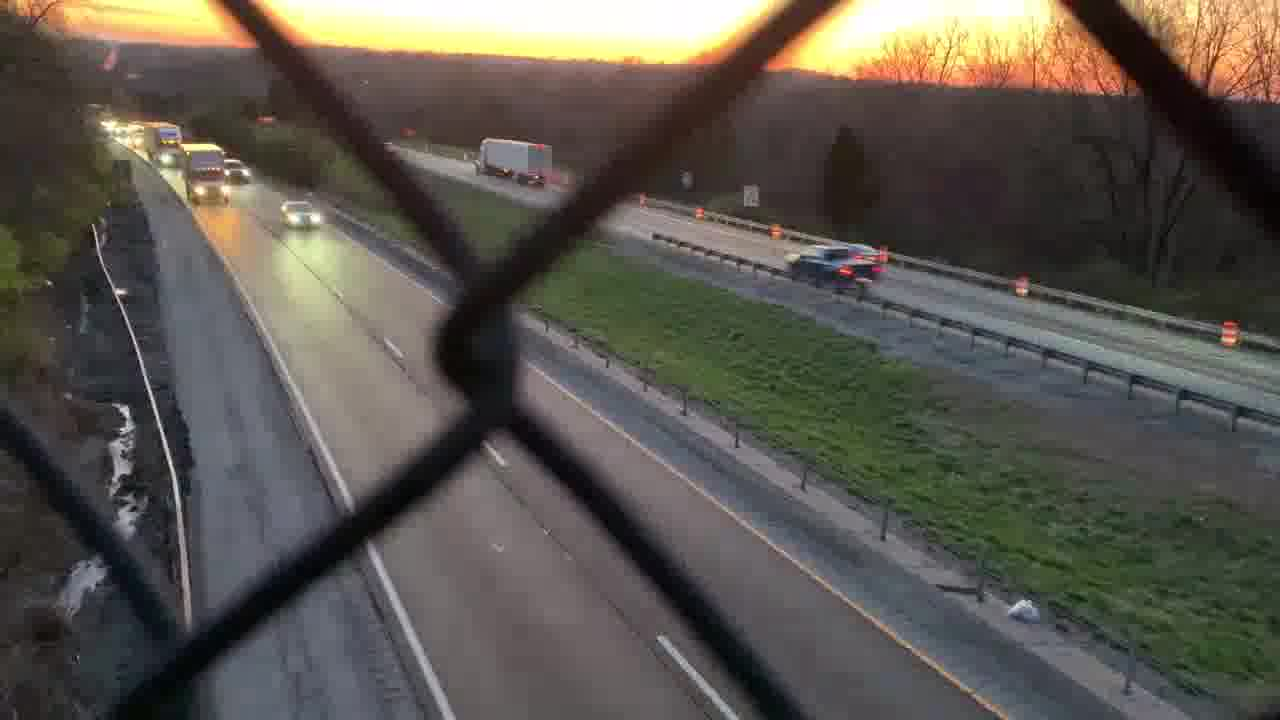heavyTruck: (474, 133, 556, 183), (181, 138, 232, 208)
lightTruck: (784, 240, 882, 292)
smallCar: (277, 193, 324, 237)
